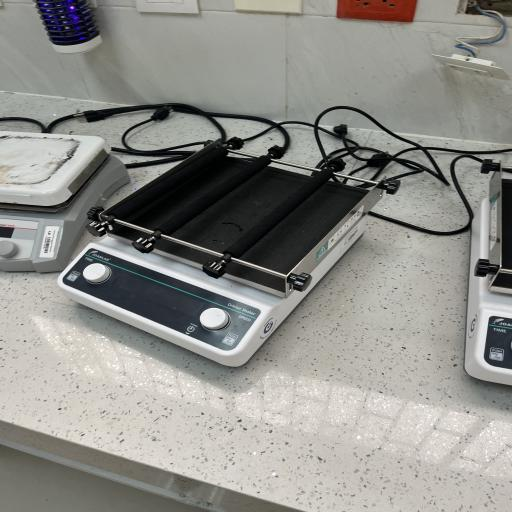Agitador_Orbital_DLAB: (56, 133, 415, 380)
